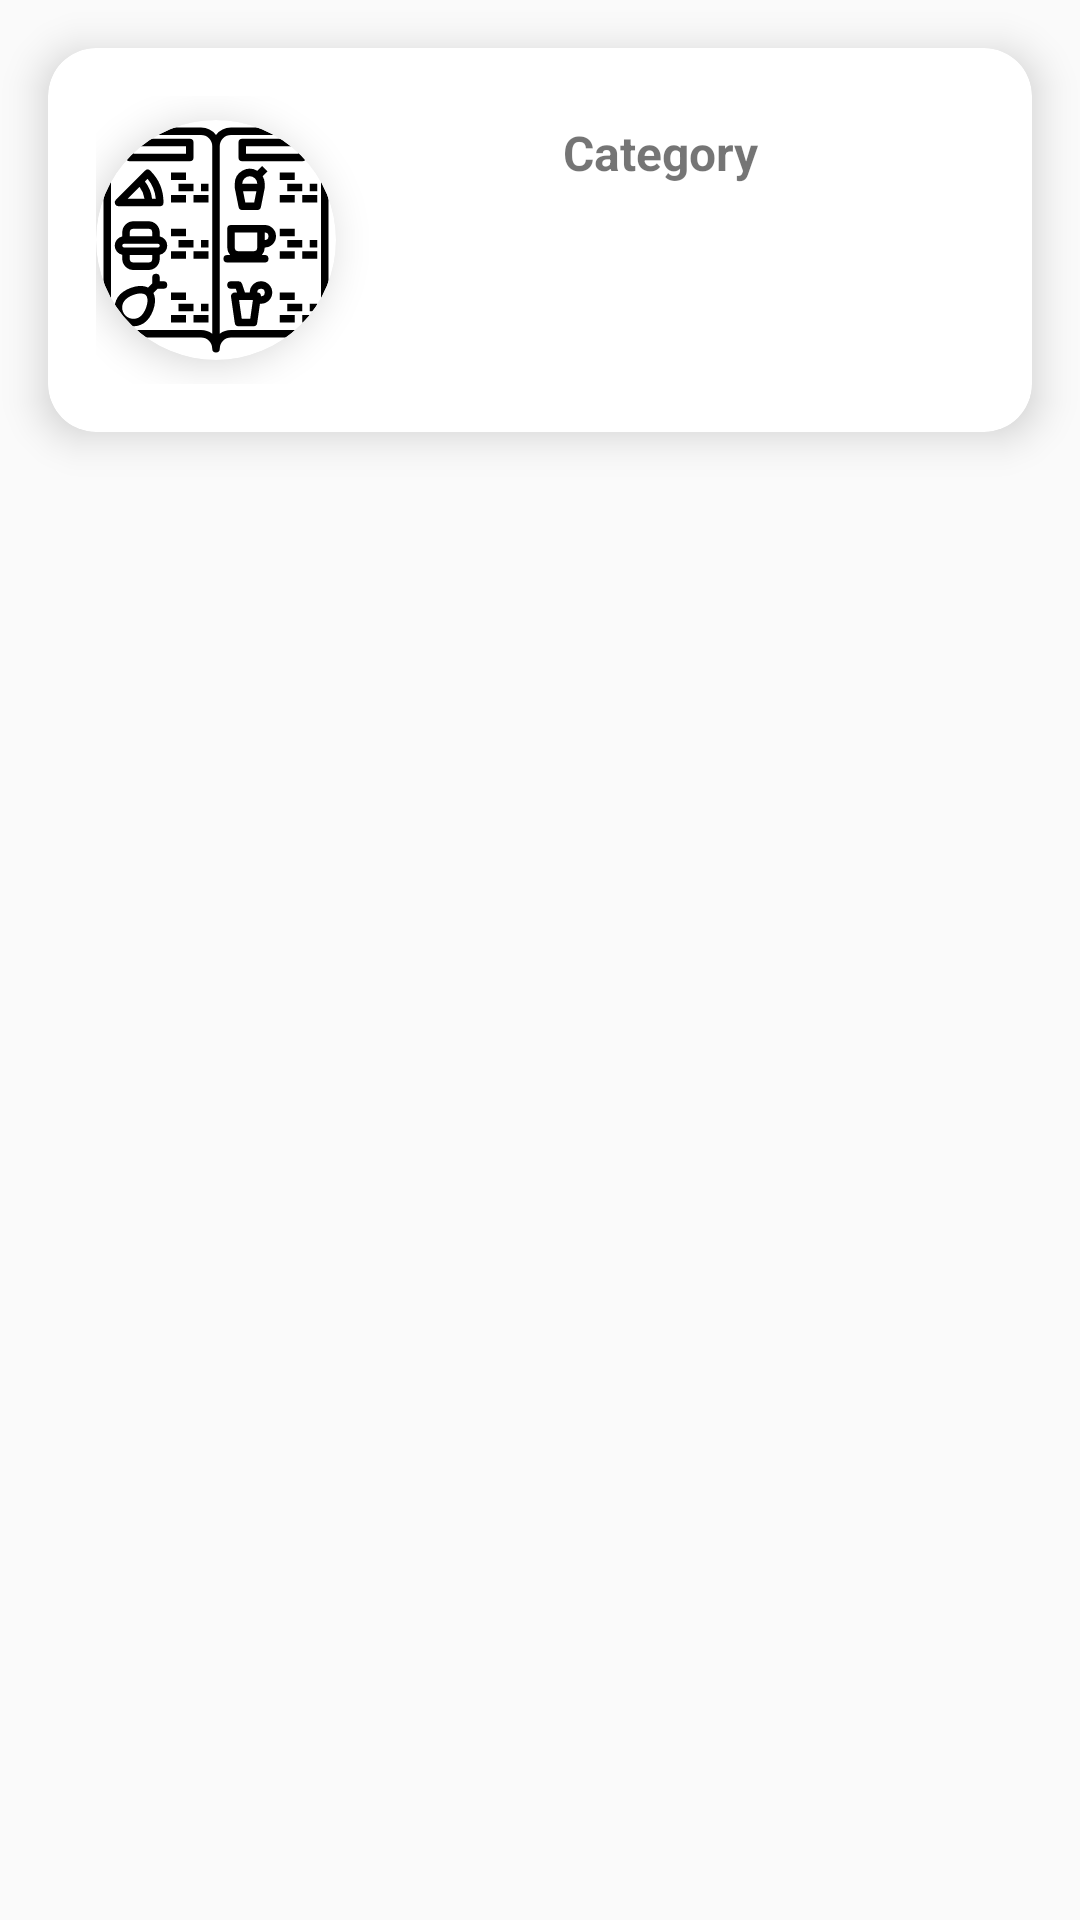

Screen size 1080 × 1920. Icon name, then its center in pixels as [x,y]:
menu: [216,240]
